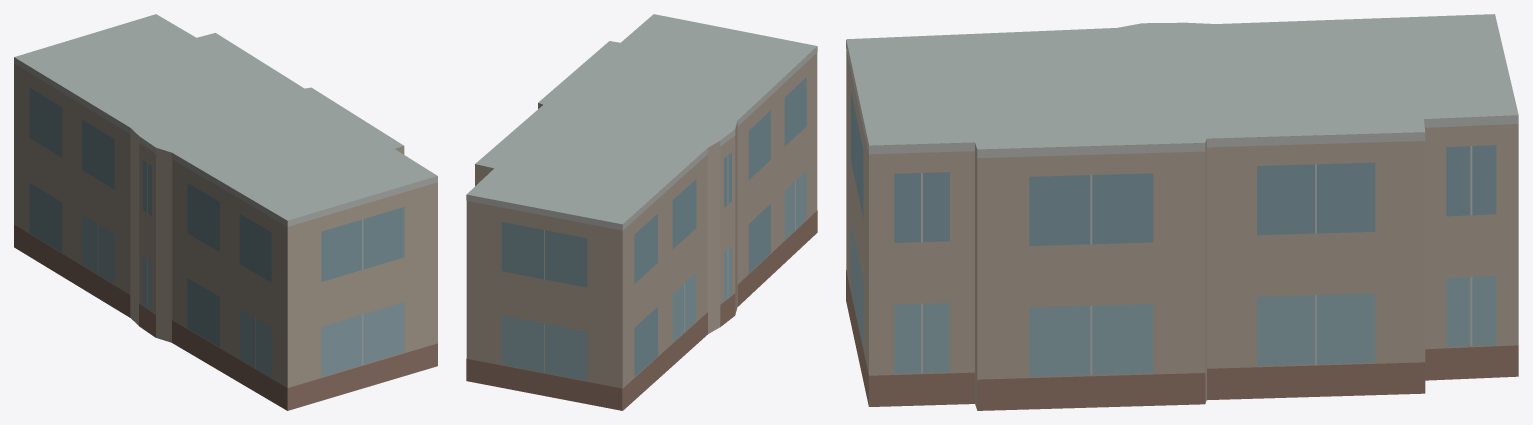
Rendered from survey-upis-32621812.glb.
3 renders of one model, left to right at view 1: azimuth 30°, elevation 25°; view 2: azimuth 150°, elevation 25°; view 3: azimuth 270°, elevation 25°, orthographic. The views are drawn at different scales.
Visible parts, largest first — view 1: survey-upis-32621812.tmp; view 2: survey-upis-32621812.tmp; view 3: survey-upis-32621812.tmp.
Part boxes in pixels (x1,y1,x2,y2): survey-upis-32621812.tmp: (14,14,437,410); survey-upis-32621812.tmp: (466,14,817,410); survey-upis-32621812.tmp: (846,14,1518,410).
Size of the model in its own units: 8.12 by 7.3 by 17.03.
